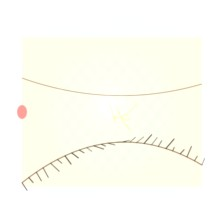corneal_ulcer: (89, 86, 154, 139)
